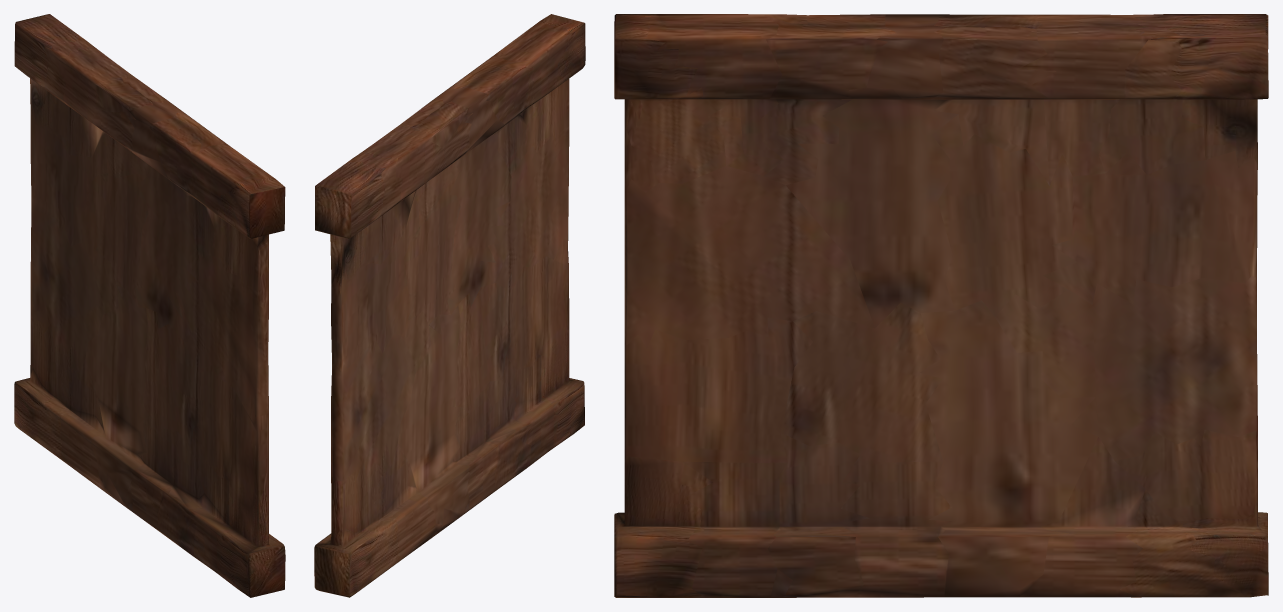
The model's file is 木地板面板.glb.
The picture shows the model from 3 angles, left to right: view 1: azimuth 30°, elevation 25°; view 2: azimuth 150°, elevation 25°; view 3: azimuth 270°, elevation 25°; orthographic projection. The views are drawn at different scales.
Visible parts, largest first — view 1: tripo_node_9da59af4-2386-4771-be8b-f0bb8e617083; view 2: tripo_node_9da59af4-2386-4771-be8b-f0bb8e617083; view 3: tripo_node_9da59af4-2386-4771-be8b-f0bb8e617083.
Boxes of the visible parts, box(x1,y1,x2,y2) form: tripo_node_9da59af4-2386-4771-be8b-f0bb8e617083: box(14, 14, 285, 597); tripo_node_9da59af4-2386-4771-be8b-f0bb8e617083: box(314, 14, 585, 597); tripo_node_9da59af4-2386-4771-be8b-f0bb8e617083: box(614, 14, 1268, 597).
Bounding box in the file's own units: 0.09 × 0.9454 × 0.9979.
Materials: 1 (1 with a texture image).
